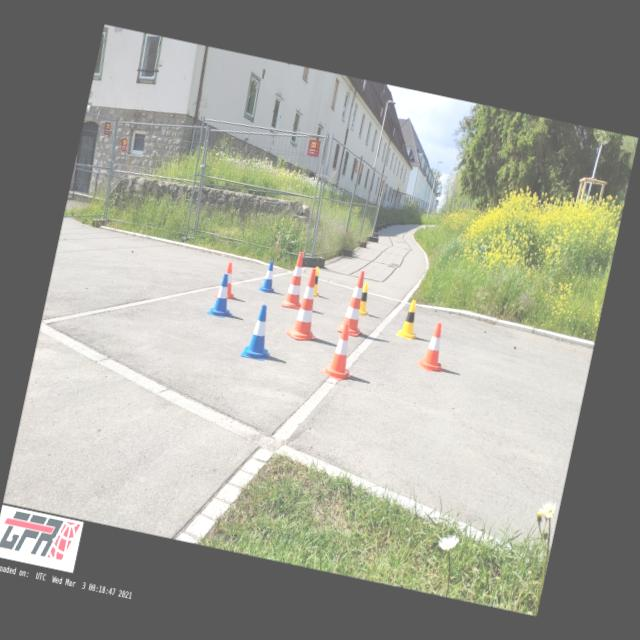blue_cone: (240, 302, 279, 362), (206, 272, 240, 318), (256, 259, 282, 294)
large_orange_cone: (284, 266, 330, 344), (336, 268, 374, 338), (280, 250, 312, 309)
orange_cone: (319, 320, 362, 382), (415, 320, 453, 374), (213, 260, 242, 300)
yellow_cone: (394, 298, 424, 340), (357, 282, 375, 316), (310, 266, 324, 298)
